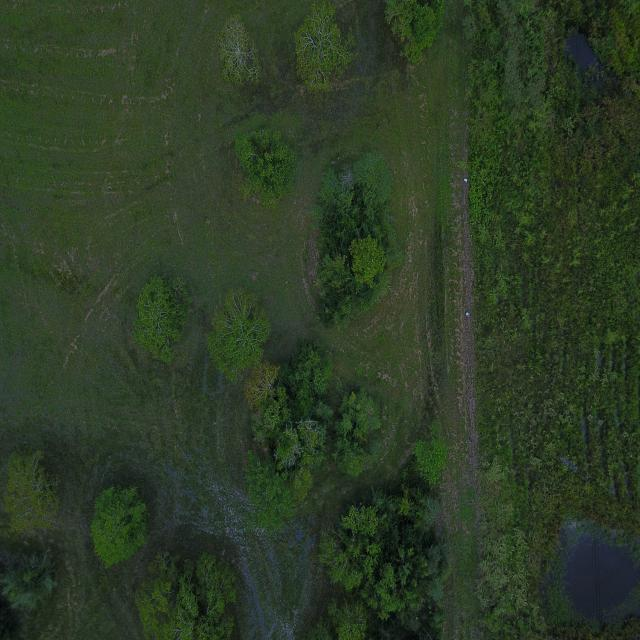fire: (564, 536, 639, 619), (566, 31, 600, 65)
